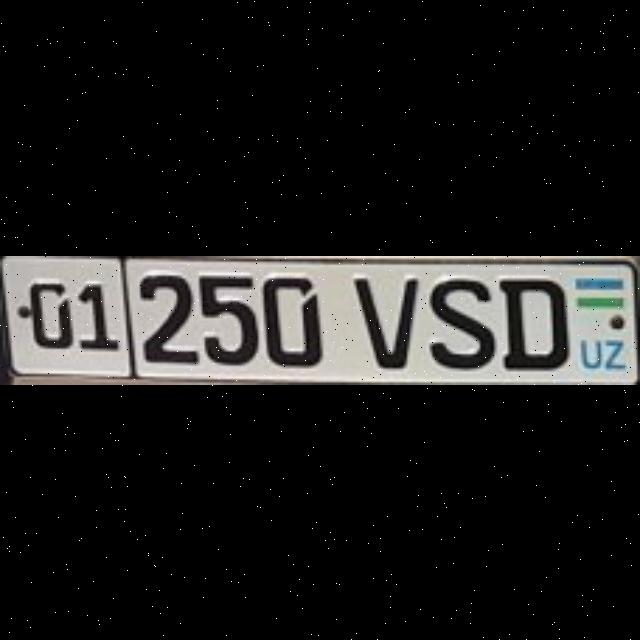0: (258, 272, 320, 364), (26, 278, 70, 348)
1: (73, 280, 115, 348)
2: (134, 272, 200, 362)
5: (194, 272, 252, 362)
D: (497, 274, 567, 368)
S: (424, 274, 492, 368)
V: (350, 274, 416, 368)
